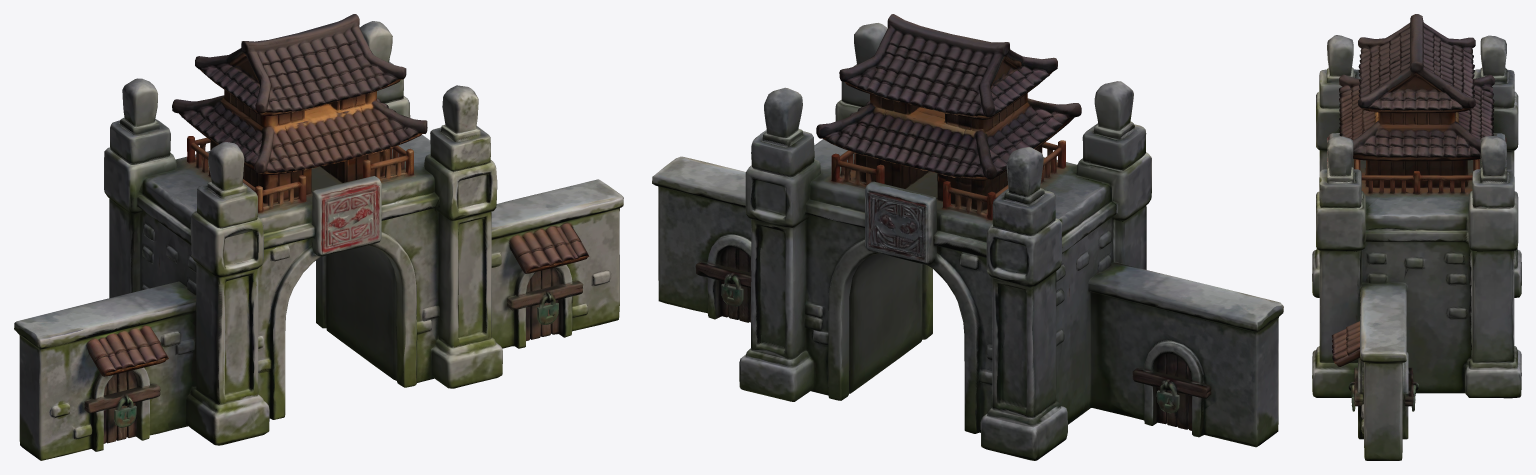
Rendered from cong-lang-khac-dau.a2584185.glb.
3 views of the same model, side by side, from view 1: azimuth 30°, elevation 25°; view 2: azimuth 150°, elevation 25°; view 3: azimuth 270°, elevation 25° (orthographic). The views are drawn at different scales.
Visible parts, largest first — view 1: tripo_node_4275f2ba-d3f9-4a52-b65b-04fd95d95cd3; view 2: tripo_node_4275f2ba-d3f9-4a52-b65b-04fd95d95cd3; view 3: tripo_node_4275f2ba-d3f9-4a52-b65b-04fd95d95cd3.
Part boxes in pixels (x1,y1,x2,y2): tripo_node_4275f2ba-d3f9-4a52-b65b-04fd95d95cd3: (14,14,623,460); tripo_node_4275f2ba-d3f9-4a52-b65b-04fd95d95cd3: (652,14,1283,460); tripo_node_4275f2ba-d3f9-4a52-b65b-04fd95d95cd3: (1312,14,1521,460).
Bounding box in the file's own units: 0.9789 × 0.5477 × 0.3456.
1 material, 1 textured.
